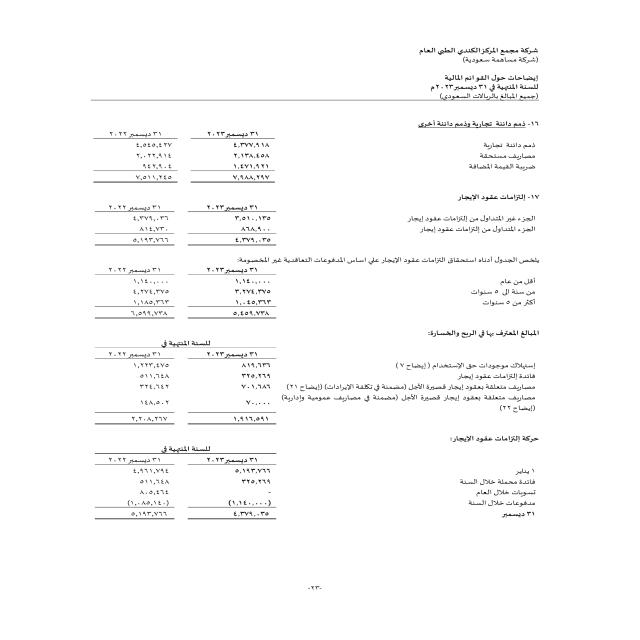notes: (415, 73, 547, 82)
table: (73, 120, 297, 546)
